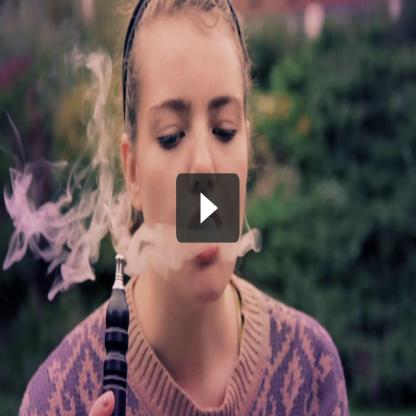smoke: (0, 33, 178, 301)
